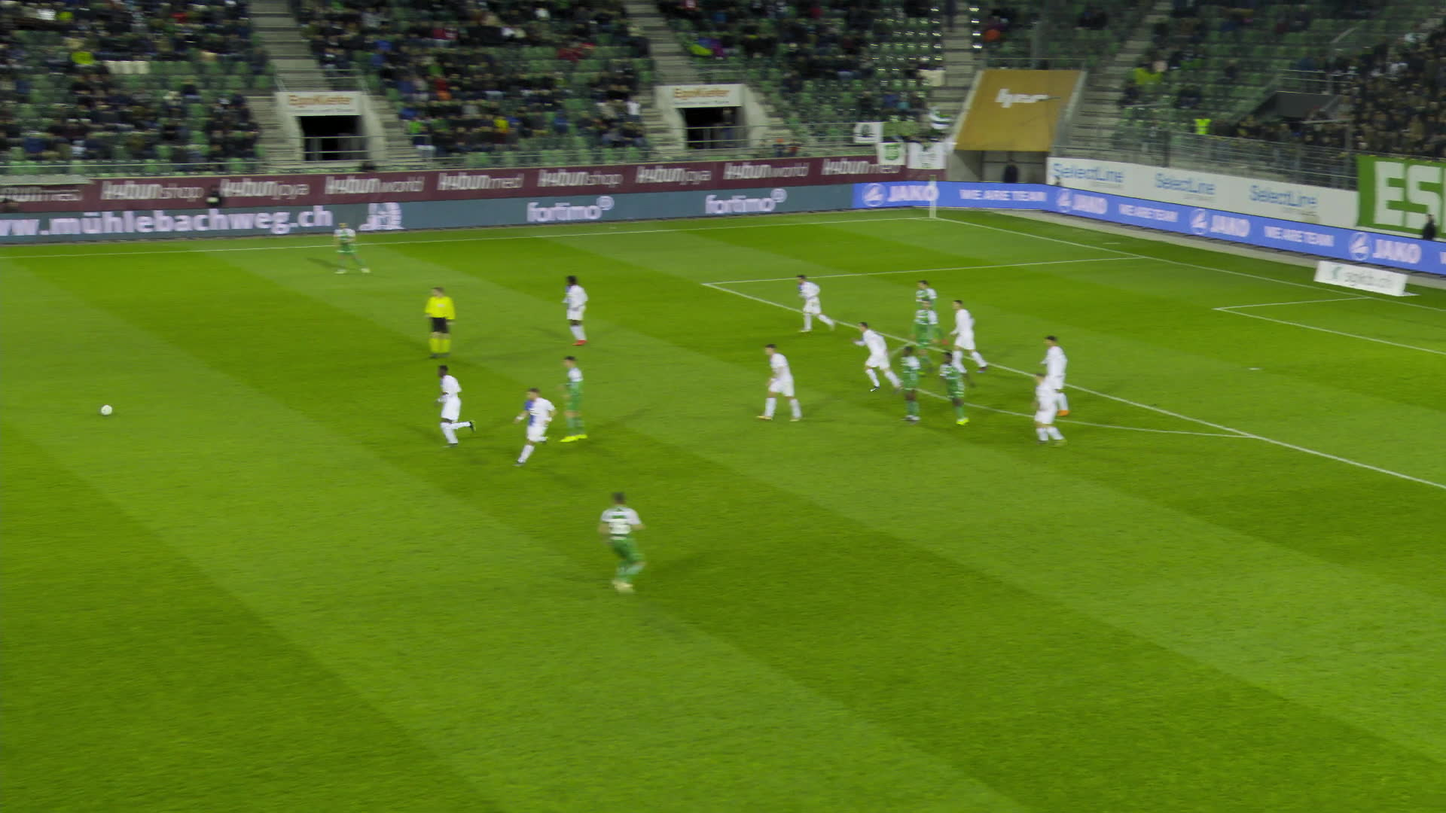ball: (100, 404, 113, 414)
player: (597, 490, 645, 593), (850, 321, 902, 394), (432, 364, 475, 448), (512, 387, 557, 467), (755, 344, 801, 422), (547, 355, 587, 443), (948, 300, 988, 374), (1029, 372, 1067, 448), (938, 352, 975, 426), (795, 274, 835, 333), (909, 298, 938, 379), (1039, 335, 1068, 416), (914, 280, 948, 349), (1368, 273, 1399, 347), (332, 221, 370, 273), (561, 274, 588, 345), (899, 346, 921, 423)
referee: (423, 286, 455, 359)
